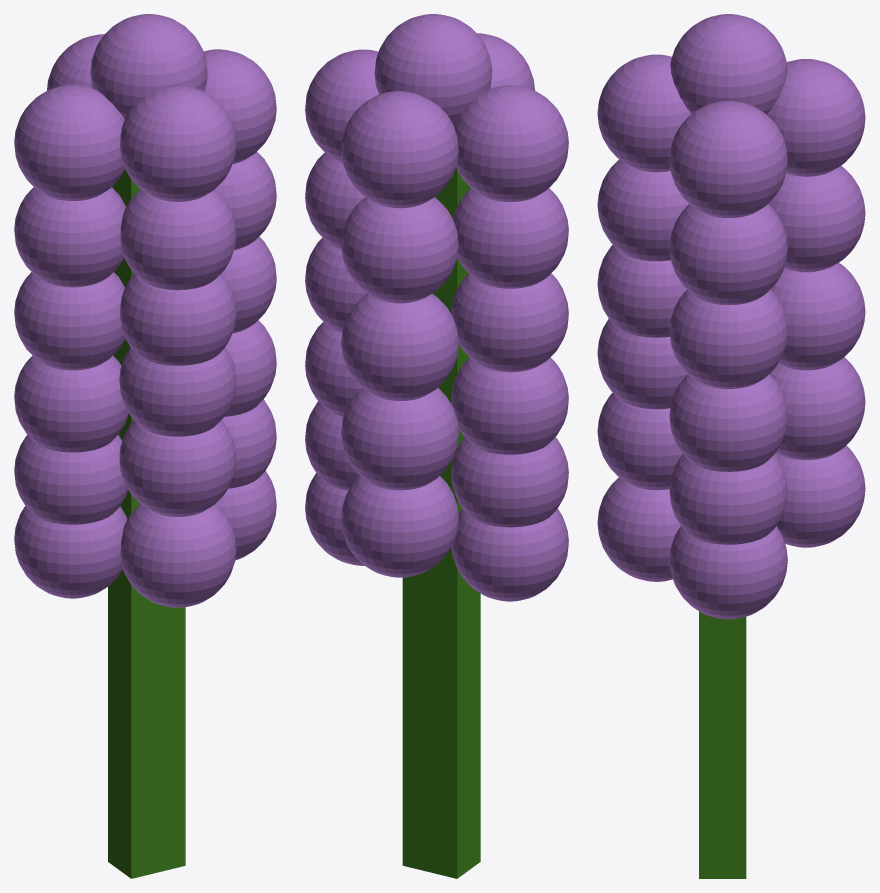
The model's file is Hyacinth.fbx.
3 renders of one model, left to right at view 1: azimuth 30°, elevation 25°; view 2: azimuth 150°, elevation 25°; view 3: azimuth 270°, elevation 25°, orthographic.
Parts seen in each view (by area): view 1: Cube, Sphere.017, Sphere.005, Sphere.012, Sphere.016, Sphere.006, Sphere.008, Sphere.013, Sphere.007, Sphere.015, Sphere.023, Sphere.014 (+9 smaller); view 2: Cube, Sphere.004, Sphere.005, Sphere.002, Sphere.003, Sphere.001, Sphere, Sphere.006, Sphere.008, Sphere.007, Sphere.023, Sphere.009 (+8 smaller); view 3: Cube, Sphere.022, Sphere.021, Sphere.019, Sphere.020, Sphere.023, Sphere.004, Sphere.018, Sphere.011, Sphere.017, Sphere.002, Sphere.003 (+7 smaller).
Boxes of the visible parts, x1,y1,x2,y2 form: Cube: [108, 169, 185, 878]; Sphere.017: [120, 86, 236, 201]; Sphere.005: [14, 85, 125, 200]; Sphere.012: [120, 504, 236, 607]; Sphere.016: [120, 189, 236, 290]; Sphere.006: [14, 187, 125, 287]; Sphere.008: [14, 355, 128, 452]; Sphere.013: [119, 420, 236, 516]; Sphere.007: [14, 272, 125, 370]; Sphere.015: [120, 274, 236, 365]; Sphere.023: [90, 14, 207, 118]; Sphere.014: [119, 347, 236, 436]; Cube: [402, 167, 480, 878]; Sphere.004: [341, 90, 458, 208]; Sphere.005: [454, 85, 568, 201]; Sphere.002: [341, 294, 458, 400]; Sphere.003: [341, 197, 458, 303]; Sphere.001: [341, 388, 458, 490]; Sphere: [341, 476, 458, 577]; Sphere.006: [452, 188, 568, 288]; Sphere.008: [451, 357, 568, 454]; Sphere.007: [451, 273, 568, 372]; Sphere.023: [374, 14, 492, 125]; Sphere.009: [451, 437, 568, 527]; Cube: [699, 611, 746, 878]; Sphere.022: [669, 101, 787, 217]; Sphere.021: [669, 204, 787, 305]; Sphere.019: [669, 374, 787, 471]; Sphere.020: [669, 290, 787, 388]; Sphere.023: [670, 14, 787, 114]; Sphere.004: [767, 59, 865, 176]; Sphere.018: [669, 454, 787, 544]; Sphere.011: [669, 526, 787, 619]; Sphere.017: [597, 54, 690, 172]; Sphere.002: [770, 262, 865, 370]; Sphere.003: [768, 166, 865, 272].
Size of the model in its own units: 33.28 by 108 by 30.99.
